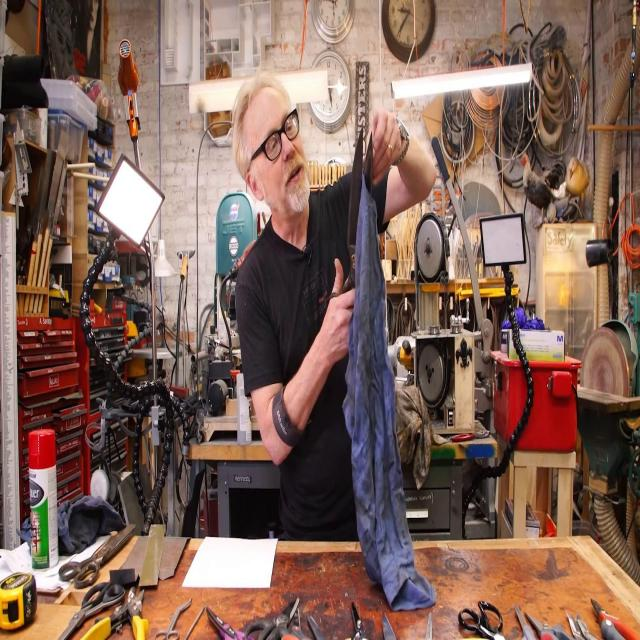scissor: (325, 128, 373, 308), (59, 522, 135, 590), (58, 580, 125, 640), (244, 598, 299, 640), (459, 600, 506, 640), (154, 596, 192, 640), (526, 610, 572, 640)
